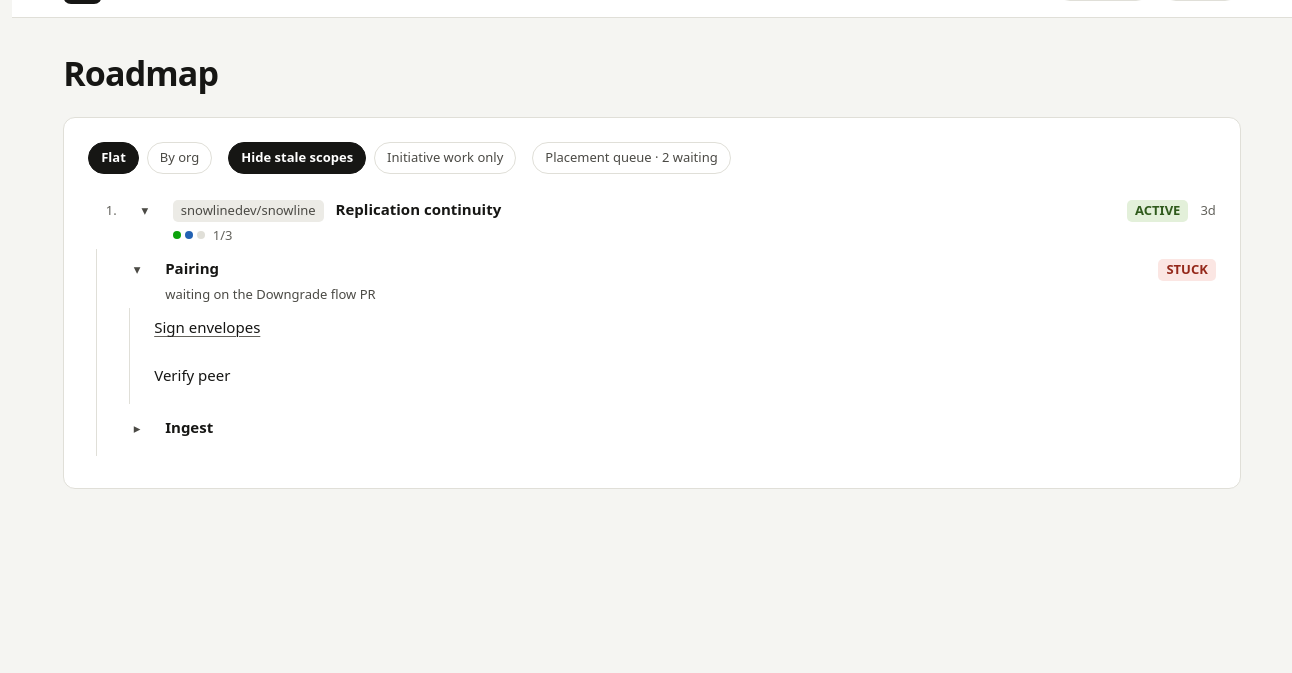
Scenario: board kind: view state in the URL › an unknown facet key degrades silently and leaves the toggles working
The width and height of the screenshot is (1292, 673).
Expected: the text "Replication continuity" is shown, [336,199,501,219]
Expected: the text "Stale exploration" is not shown
Click the button "Hide stale scopes" at (297, 158), box [228,142,366,174]
(page scrolled)
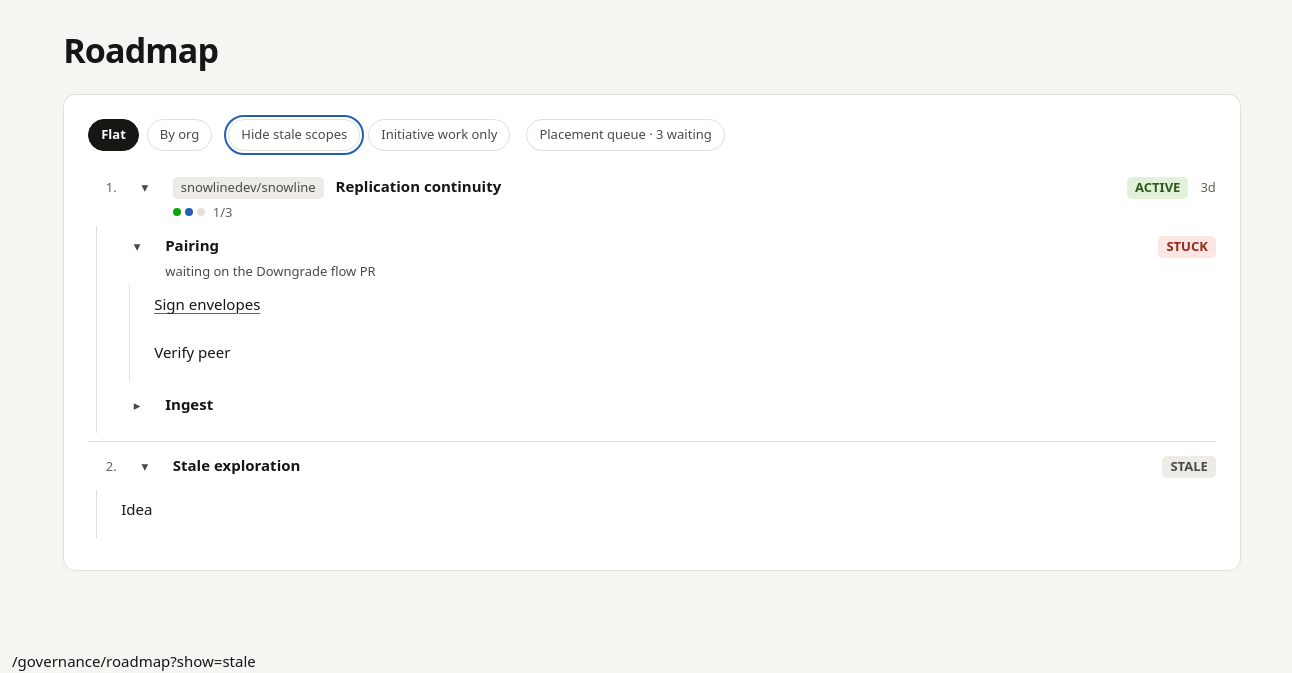
Now the text "Stale exploration" is shown, box [173,455,300,475]
Now the text with test id "url" reads "/governance/roadmap?show=stale", box [12,651,256,671]
